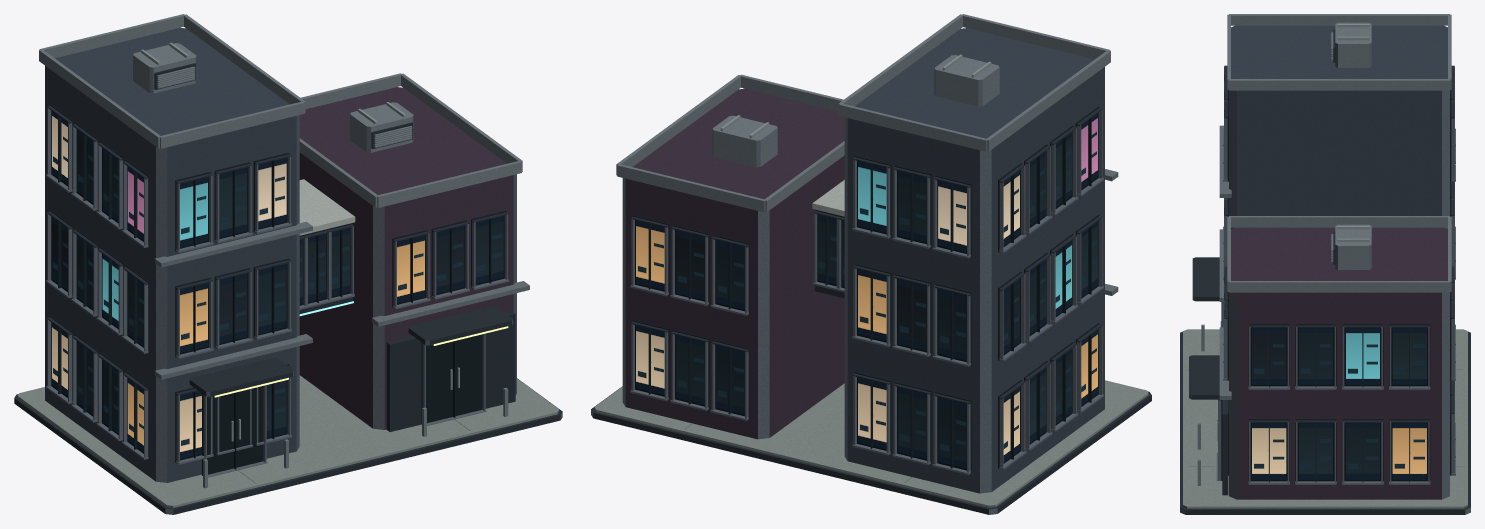
Rendered from 02-work-annex-01.glb.
3 views of the same model, side by side, from view 1: azimuth 30°, elevation 25°; view 2: azimuth 150°, elevation 25°; view 3: azimuth 270°, elevation 25° (orthographic). The views are drawn at different scales.
Parts seen in each view (by area): view 1: work_architecture; view 2: work_architecture; view 3: work_architecture.
Boxes of the visible parts, x1=… form: work_architecture: x1=14, y1=14, x2=562, y2=514; work_architecture: x1=591, y1=14, x2=1151, y2=514; work_architecture: x1=1180, y1=14, x2=1470, y2=514.
Size of the model in its own units: 15.2 by 13.63 by 10.4.
Materials: 2 (2 with a texture image).
